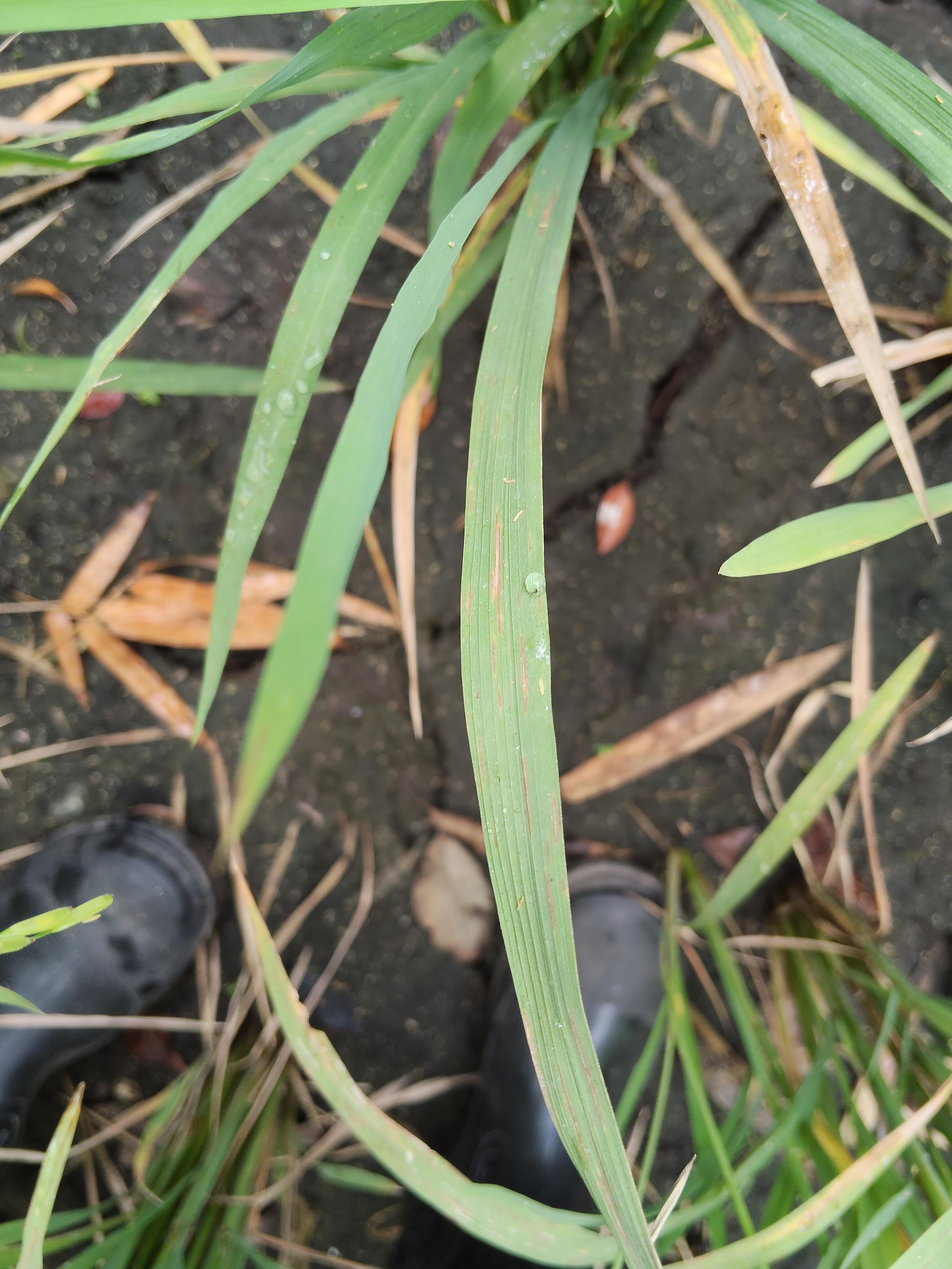NBS: (521, 1011, 557, 1123), (568, 1013, 604, 1121), (557, 1065, 589, 1165), (596, 1177, 629, 1247), (491, 522, 501, 633), (521, 753, 532, 838), (542, 867, 556, 933), (518, 634, 529, 715), (478, 739, 486, 786), (552, 797, 559, 842), (467, 488, 473, 515), (491, 636, 495, 676), (466, 588, 471, 617), (493, 415, 499, 438), (497, 690, 502, 716), (492, 831, 499, 848), (561, 878, 567, 897), (478, 401, 482, 429), (545, 840, 550, 862), (536, 597, 542, 614), (469, 458, 473, 473), (516, 592, 520, 606)
